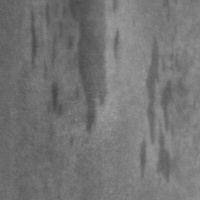inclusion: (58, 0, 124, 138), (137, 28, 189, 187), (28, 0, 74, 81), (43, 78, 67, 121)
